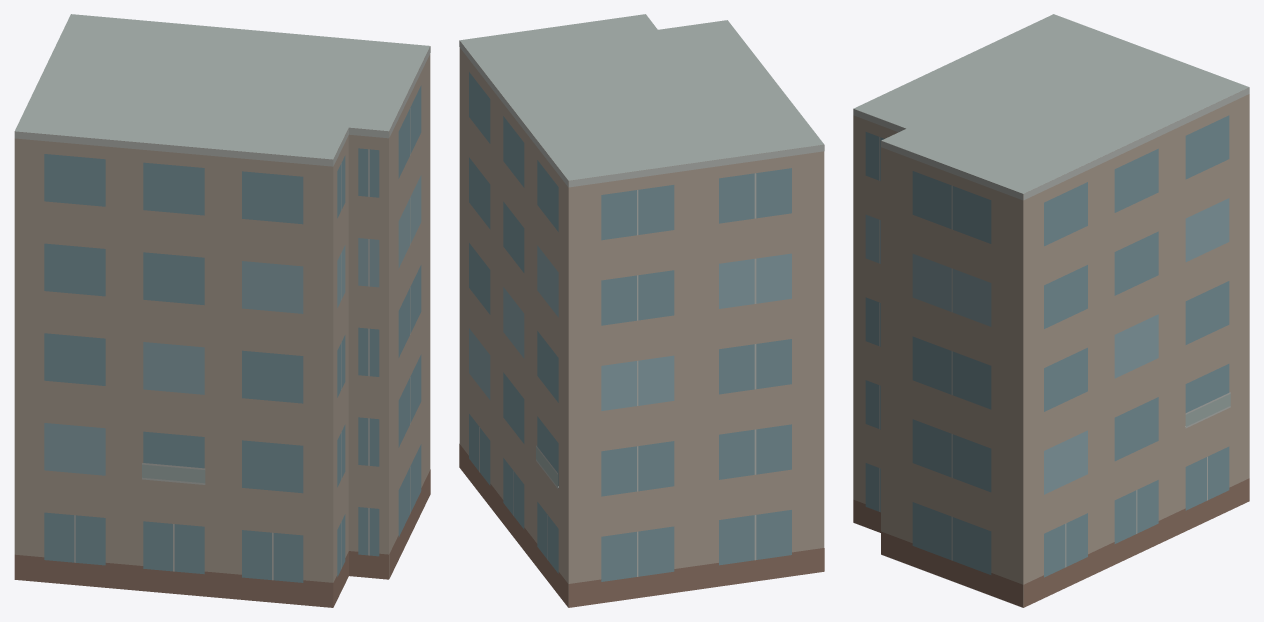
File: survey-upis-32524285.glb
The picture shows the model from 3 angles, left to right: view 1: azimuth 30°, elevation 25°; view 2: azimuth 150°, elevation 25°; view 3: azimuth 270°, elevation 25°; orthographic projection. The views are drawn at different scales.
Parts seen in each view (by area): view 1: survey-upis-32524285.tmp; view 2: survey-upis-32524285.tmp; view 3: survey-upis-32524285.tmp.
Part boxes in pixels (box(x1,y1,x2,y2)): survey-upis-32524285.tmp: box(14, 14, 430, 607); survey-upis-32524285.tmp: box(459, 14, 824, 607); survey-upis-32524285.tmp: box(853, 14, 1249, 607).
Bounding box in the file's own units: 14.37 × 15.4 × 13.37.
